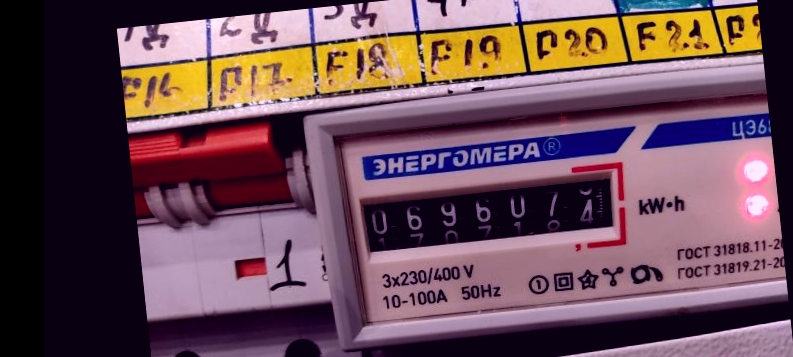0: (507, 188, 529, 220), (369, 205, 390, 235)
4: (577, 196, 596, 225)
6: (472, 194, 494, 224), (404, 201, 425, 231)
7: (543, 186, 563, 218)
9: (438, 198, 458, 228)
screen: (344, 153, 637, 271)
